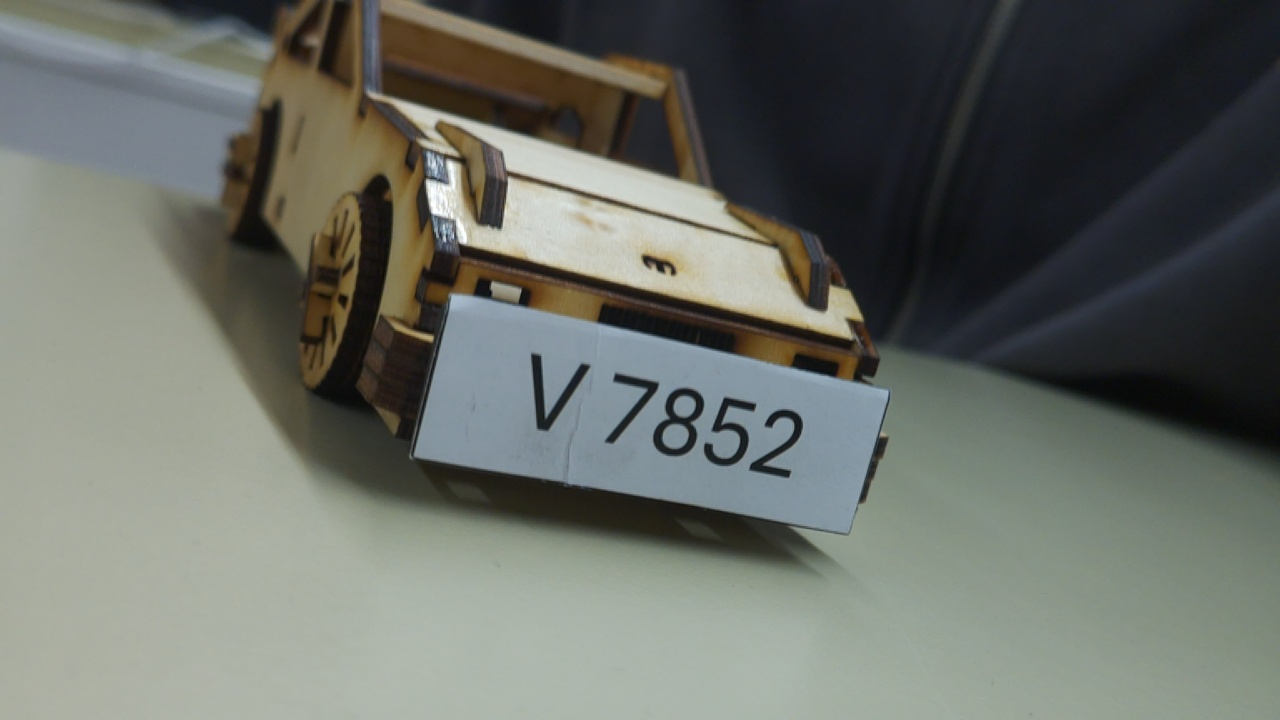license_plate: (402, 288, 897, 549)
